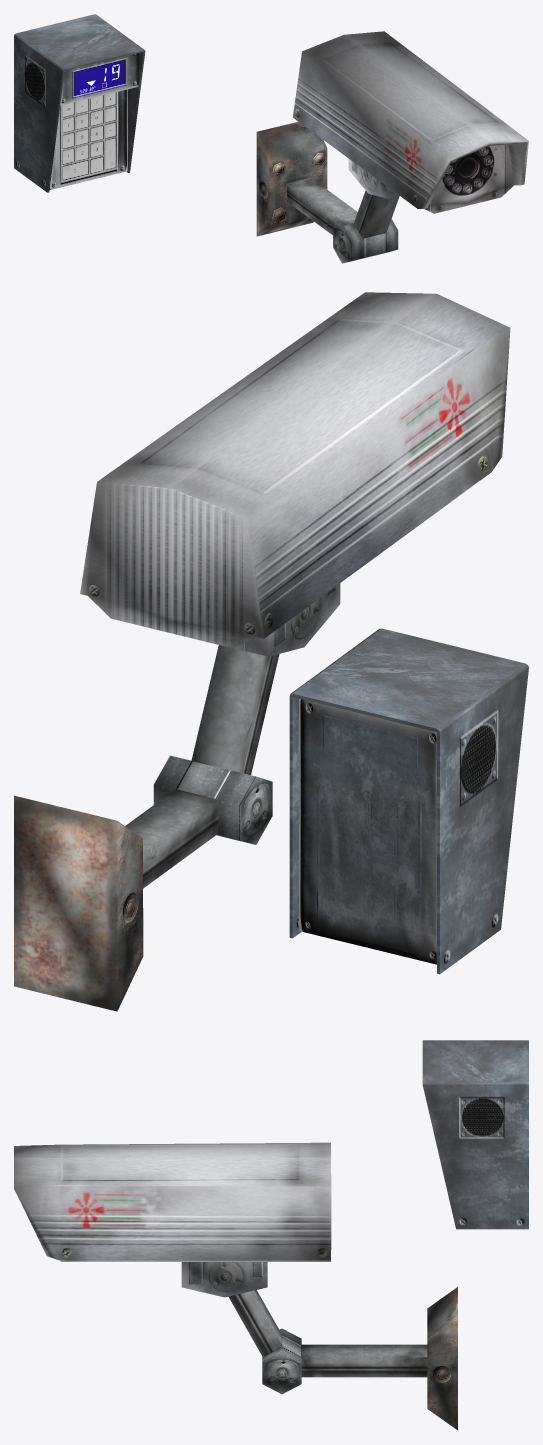
3 renders of one model, top to bottom at view 1: azimuth 30°, elevation 25°; view 2: azimuth 150°, elevation 25°; view 3: azimuth 270°, elevation 25°, orthographic. The views are drawn at different scales.
Visible parts, largest first — view 1: CCTV1:Hinge, Access_Panel:Access_Panel_Access_Panel:Access_Panel_material, CCTV1:CCTV_Camera; view 2: CCTV1:Hinge, Access_Panel:Access_Panel_Access_Panel:Access_Panel_material, CCTV1:CCTV_Camera; view 3: CCTV1:Hinge, Access_Panel:Access_Panel_Access_Panel:Access_Panel_material, CCTV1:CCTV_Camera.
Boxes of the visible parts, x1=… form: CCTV1:Hinge: x1=292, y1=31, x2=528, y2=263; Access_Panel:Access_Panel_Access_Panel:Access_Panel_material: x1=14, y1=14, x2=145, y2=192; CCTV1:CCTV_Camera: x1=256, y1=121, x2=357, y2=236; CCTV1:Hinge: x1=80, y1=292, x2=510, y2=844; Access_Panel:Access_Panel_Access_Panel:Access_Panel_material: x1=289, y1=628, x2=528, y2=974; CCTV1:CCTV_Camera: x1=14, y1=789, x2=218, y2=1011; CCTV1:Hinge: x1=14, y1=1142, x2=331, y2=1394; Access_Panel:Access_Panel_Access_Panel:Access_Panel_material: x1=422, y1=1040, x2=528, y2=1229; CCTV1:CCTV_Camera: x1=301, y1=1287, x2=457, y2=1430.
Bounding box in the file's own units: 0.0761 × 0.0599 × 0.1083.
2 materials, 2 textured.
